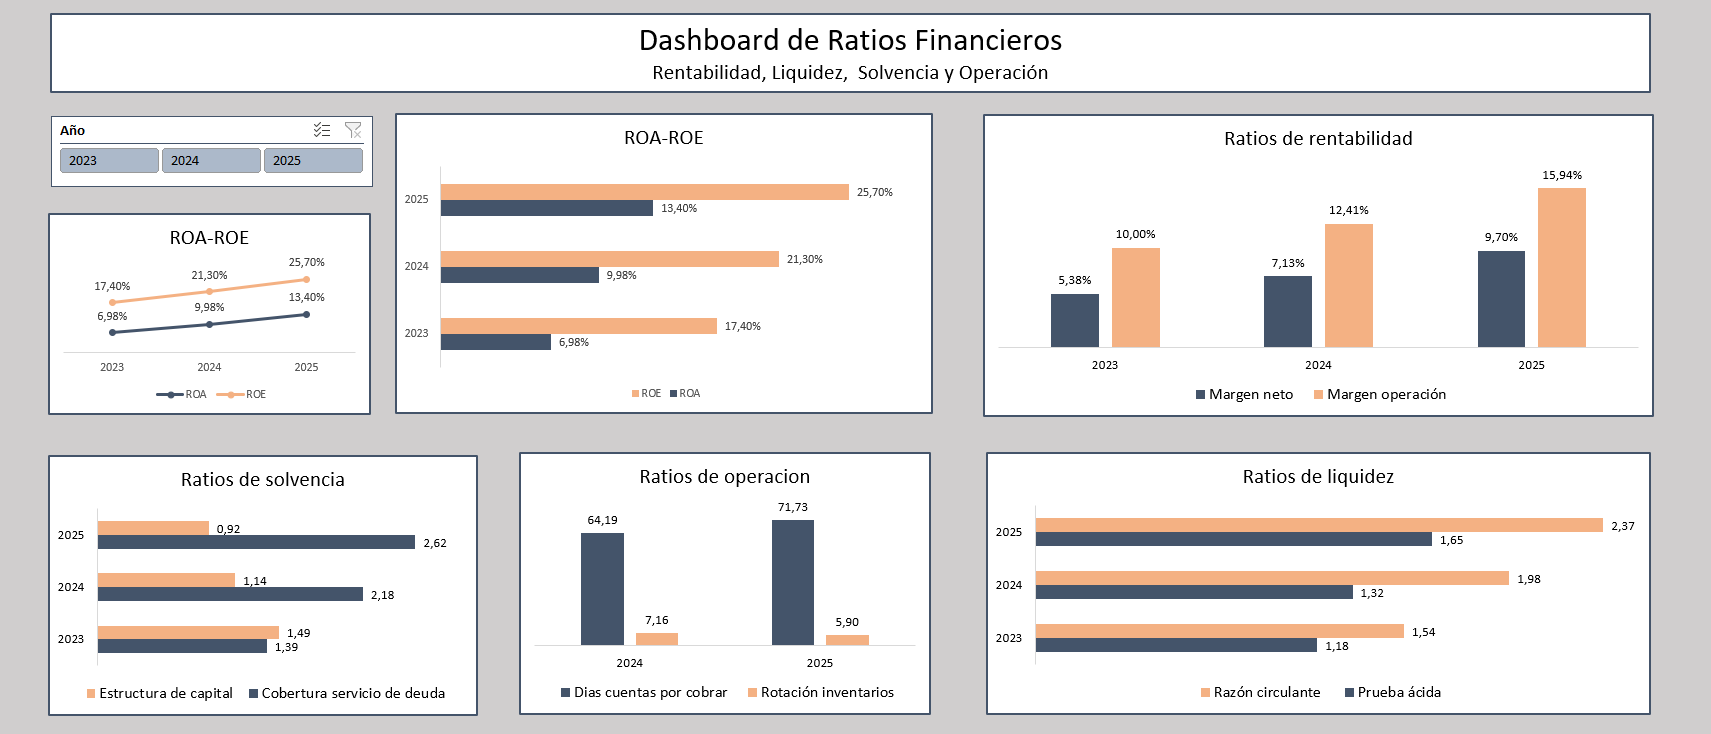

The page's visual inventory and layout, read from the dashboard file:
{"tool":"powerbi","page":{"name":"dashboard ratios","canvas":[1280,720],"ordinal":1},"visuals":[{"type":"clusteredBarChart","title":"ROA-ROE","fields":{"Category":["Ratios.Año"],"Y":["Sum(Ratios.Valor)"],"Series":["Ratios.Tipo de Ratio"]},"box":[496,125.5,369.6,250],"z":0},{"type":"clusteredBarChart","title":"Ratios de solvencia","fields":{"Category":["Ratios.Año"],"Y":["Sum(Ratios.Valor)"],"Series":["Ratios.Tipo de Ratio"]},"box":[35,398.8,421.2,301.5],"z":1000},{"type":"clusteredBarChart","title":"Ratios de liquidez","fields":{"Category":["Ratios.Año"],"Y":["Sum(Ratios.Valor)"],"Series":["Ratios.Tipo de Ratio"]},"box":[793.7,398.8,479.5,301.5],"z":2000},{"type":"clusteredColumnChart","title":"Ratios de rentabilidad","fields":{"Category":["Ratios.Año"],"Series":["Ratios.Tipo de Ratio"],"Y":["Sum(Ratios.Valor)"]},"box":[898.7,125.5,366.7,250],"z":3000},{"type":"clusteredColumnChart","title":"Ratios de operación","fields":{"Category":["Ratioop.Año"],"Y":["Sum(Ratioop.Valor)"],"Series":["Ratioop.Tipo de operación"]},"box":[469.8,398.8,305.4,301.5],"z":4000},{"type":"lineChart","title":"ROA-ROE","fields":{"Category":["Ratios.Año"],"Y":["Sum(Ratios.Valor)"],"Series":["Ratios.Tipo de Ratio"]},"box":[147.8,125.5,321.9,250],"z":5000},{"type":"advancedSlicerVisual","fields":{"Values":["Ratios.Año"]},"box":[35,125.5,102.1,250],"z":6000},{"type":"textbox","box":[35,0,1230.4,106],"z":7000}]}

Visuals, with their boxes on the page's 1280x720 design canvas (x1, y1, x2, y2). These are canvas units, not pixel positions in the 1711x734 screenshot, which may show the page scaled, cropped or inside an application window:
"ROA-ROE" clusteredBarChart: box(496, 126, 866, 376)
"Ratios de solvencia" clusteredBarChart: box(35, 399, 456, 700)
"Ratios de liquidez" clusteredBarChart: box(794, 399, 1273, 700)
"Ratios de rentabilidad" clusteredColumnChart: box(899, 126, 1265, 376)
"Ratios de operación" clusteredColumnChart: box(470, 399, 775, 700)
"ROA-ROE" lineChart: box(148, 126, 470, 376)
advancedSlicerVisual - Ratios.Año: box(35, 126, 137, 376)
textbox: box(35, 0, 1265, 106)
